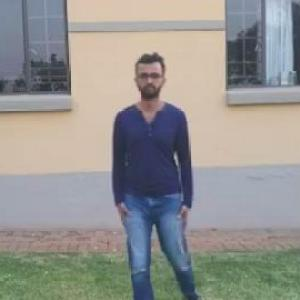follow: (109, 54, 190, 299)
